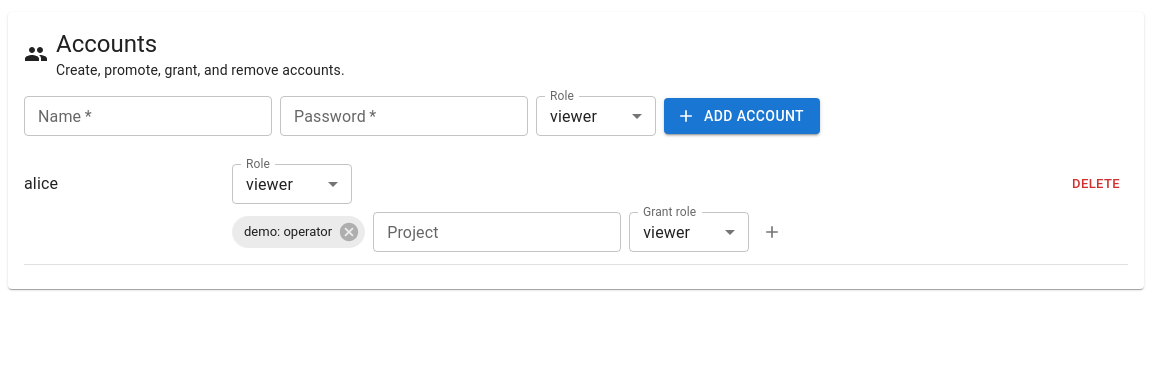
Test: a failed grant removal surfaces the error
The width and height of the screenshot is (1152, 372).
Expected: the text "demo: operator" is shown, [244, 224, 332, 239]
Click the icon with test id "CancelIcon". click: (349, 232)
box: [338, 221, 360, 243]
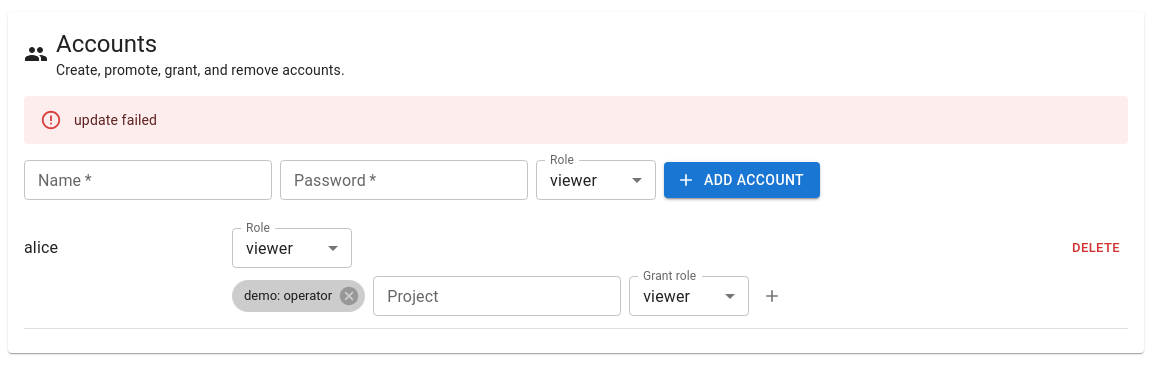
Expected: the text "demo: operator" is shown, [244, 288, 332, 303]
Expected: the text "update failed" is shown, [74, 112, 157, 128]
